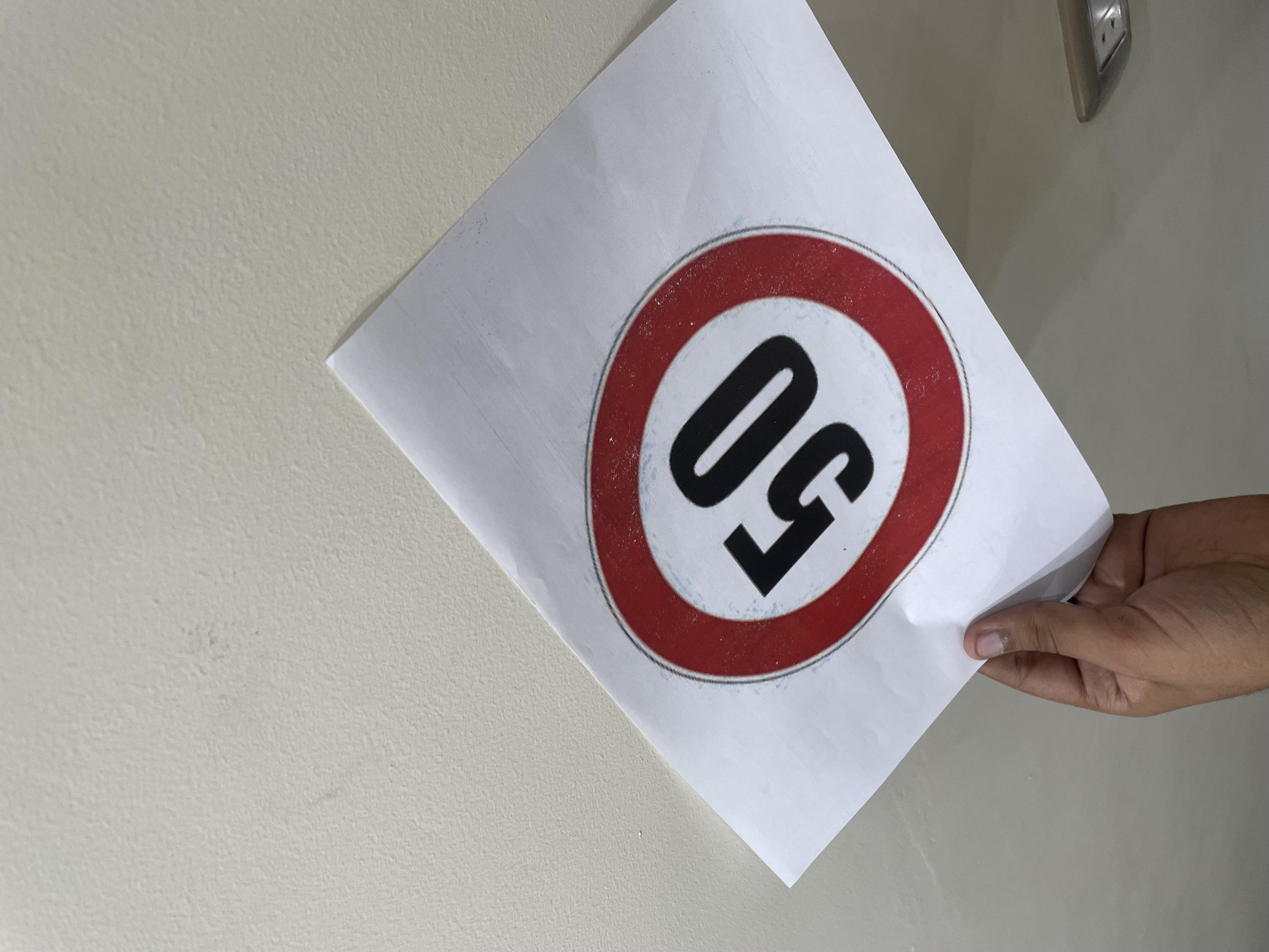50-Speed: (581, 213, 964, 687)
